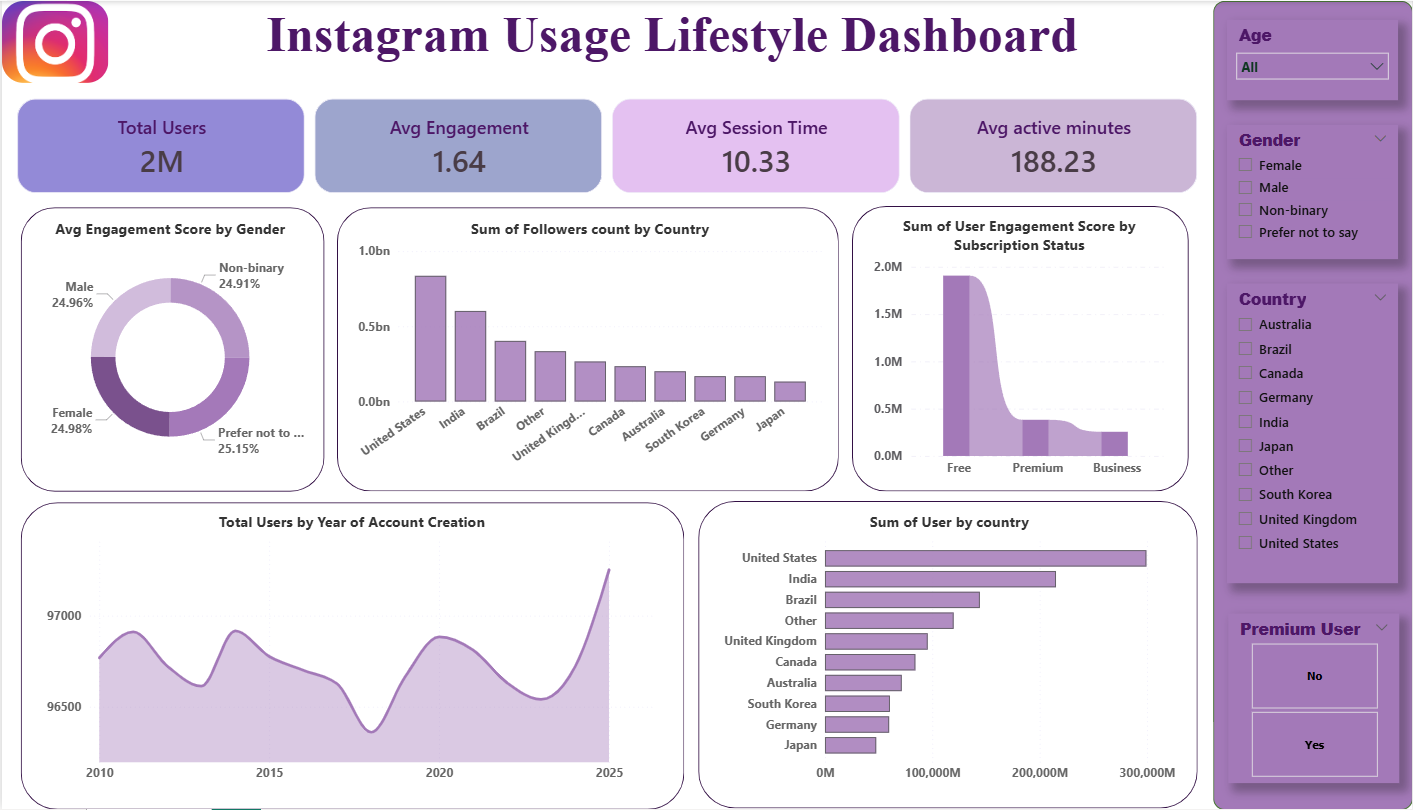

What the dashboard file says about the page in this screenshot:
{"tool":"powerbi","page":{"name":"Dashboard","canvas":[1570,900],"ordinal":0},"visuals":[{"type":"textbox","box":[148.9,0,1181.4,91.8],"z":0},{"type":"image","box":[0,0,118.4,91.3],"z":1000},{"type":"shape","box":[1348.2,0,222.2,900.5],"z":2000},{"type":"slicer","fields":{"Values":["instagram_usage_lifestyle.country"]},"box":[1363.3,314.7,190.2,333.3],"z":3000},{"type":"slicer","fields":{"Values":["instagram_usage_lifestyle.age"]},"box":[1363.3,20.2,190.2,89.2],"z":4000},{"type":"slicer","fields":{"Values":["instagram_usage_lifestyle.gender"]},"box":[1363.3,138,190.2,149.8],"z":5000},{"type":"slicer","fields":{"Values":["instagram_usage_lifestyle.uses_premium_features"]},"box":[1365,681.7,190.2,188.5],"z":6000},{"type":"cardVisual","fields":{"Data":["instagram_usage_lifestyle.Total Users","instagram_usage_lifestyle.Avg Engagement","instagram_usage_lifestyle.Avg Session Time","instagram_usage_lifestyle.Avg active minutes"]},"box":[0,91.3,1347.8,139.8],"z":7000},{"type":"shape","box":[21.4,229.6,338,316.6],"z":8000},{"type":"donutChart","fields":{"Category":["instagram_usage_lifestyle.gender"],"Y":["instagram_usage_lifestyle.Avg Engagement"]},"box":[31.4,242.3,310.7,287.9],"z":9000},{"type":"shape","box":[21.4,557.7,738.8,342.3],"z":10000},{"type":"lineChart","fields":{"Category":["instagram_usage_lifestyle.account_creation_year"],"Y":["instagram_usage_lifestyle.Total Users"]},"box":[44.2,567.6,690.3,310.9],"z":11000},{"type":"shape","box":[775.3,557.3,555.8,342],"z":12000},{"type":"clusteredBarChart","fields":{"Y":["Sum(instagram_usage_lifestyle.user_id)"],"Category":["instagram_usage_lifestyle.country"]},"box":[796.7,567.2,514.5,310.7],"z":13000},{"type":"shape","box":[373.4,229.5,558.7,316.4],"z":14000},{"type":"columnChart","title":"Sum of Followers count by Country","fields":{"Y":["Sum(instagram_usage_lifestyle.followers_count)"],"Category":["instagram_usage_lifestyle.country"]},"box":[390.5,242.3,527.3,287.9],"z":15000},{"type":"shape","box":[946.3,228,374.8,317.8],"z":16000},{"type":"ribbonChart","title":"Sum of User Engagement Score by Subscription Status","fields":{"Category":["instagram_usage_lifestyle.subscription_status"],"Y":["Sum(instagram_usage_lifestyle.user_engagement_score)"]},"box":[966.3,238,333.5,300.7],"z":17000}]}

Visuals, with their boxes in screenshot pixels (x1, y1, x2, y2), scaled from the page's 1570x900 canvas onto the 1413x810 screenshot:
textbox: [x1=134, y1=0, x2=1197, y2=83]
image: [x1=0, y1=0, x2=107, y2=82]
shape: [x1=1213, y1=0, x2=1412, y2=809]
slicer - instagram_usage_lifestyle.country: [x1=1227, y1=283, x2=1398, y2=583]
slicer - instagram_usage_lifestyle.age: [x1=1227, y1=18, x2=1398, y2=98]
slicer - instagram_usage_lifestyle.gender: [x1=1227, y1=124, x2=1398, y2=259]
slicer - instagram_usage_lifestyle.uses_premium_features: [x1=1228, y1=614, x2=1400, y2=783]
cardVisual - instagram_usage_lifestyle.Total Users x instagram_usage_lifestyle.Avg Engagement: [x1=0, y1=82, x2=1213, y2=208]
shape: [x1=19, y1=207, x2=323, y2=492]
donutChart - instagram_usage_lifestyle.gender x instagram_usage_lifestyle.Avg Engagement: [x1=28, y1=218, x2=308, y2=477]
shape: [x1=19, y1=502, x2=684, y2=809]
lineChart - instagram_usage_lifestyle.account_creation_year x instagram_usage_lifestyle.Total Users: [x1=40, y1=511, x2=661, y2=791]
shape: [x1=698, y1=502, x2=1198, y2=809]
clusteredBarChart - Sum(instagram_usage_lifestyle.user_id) x instagram_usage_lifestyle.country: [x1=717, y1=510, x2=1180, y2=790]
shape: [x1=336, y1=207, x2=839, y2=491]
"Sum of Followers count by Country" columnChart: [x1=351, y1=218, x2=826, y2=477]
shape: [x1=852, y1=205, x2=1189, y2=491]
"Sum of User Engagement Score by Subscription Status" ribbonChart: [x1=870, y1=214, x2=1170, y2=485]
